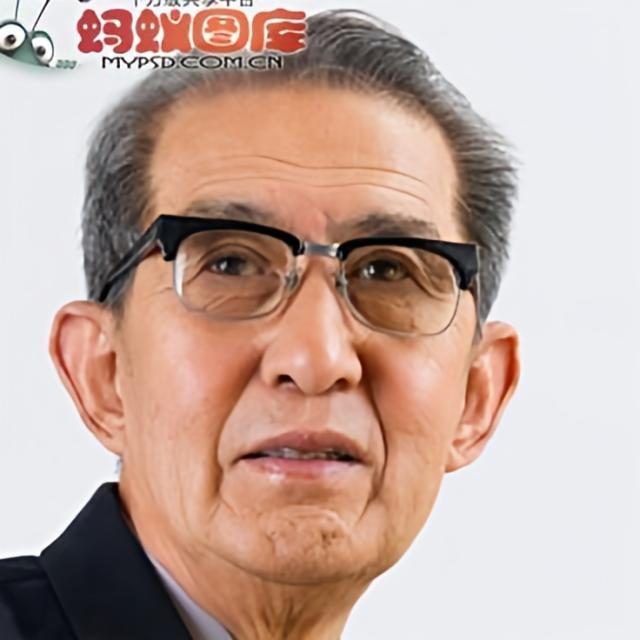disgust: (122, 73, 476, 589)
